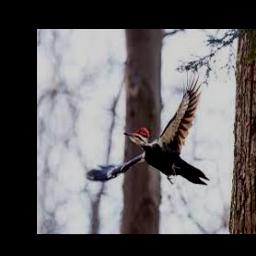Woodpecker: (86, 73, 209, 185)
